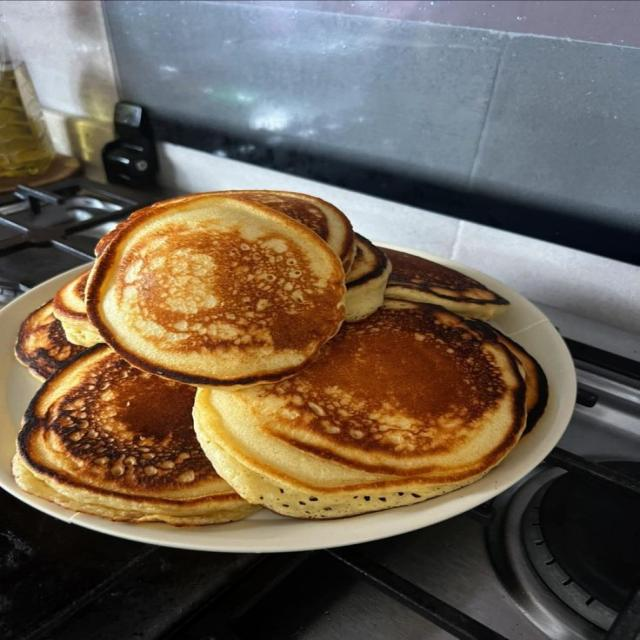pancake: (194, 301, 526, 518), (86, 194, 345, 387), (14, 345, 255, 525), (215, 191, 356, 272), (218, 191, 356, 272), (467, 320, 548, 433), (385, 249, 508, 319), (15, 301, 84, 380), (346, 234, 391, 321), (54, 270, 103, 347)
